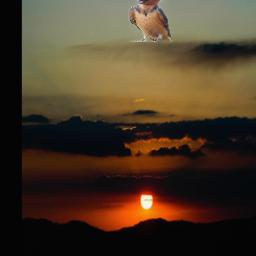Swallow: (128, 0, 172, 42)
